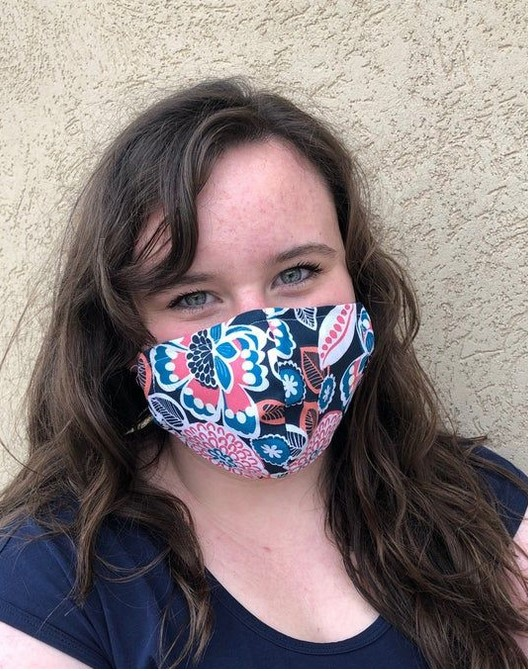face_with_mask: (108, 96, 378, 478)
